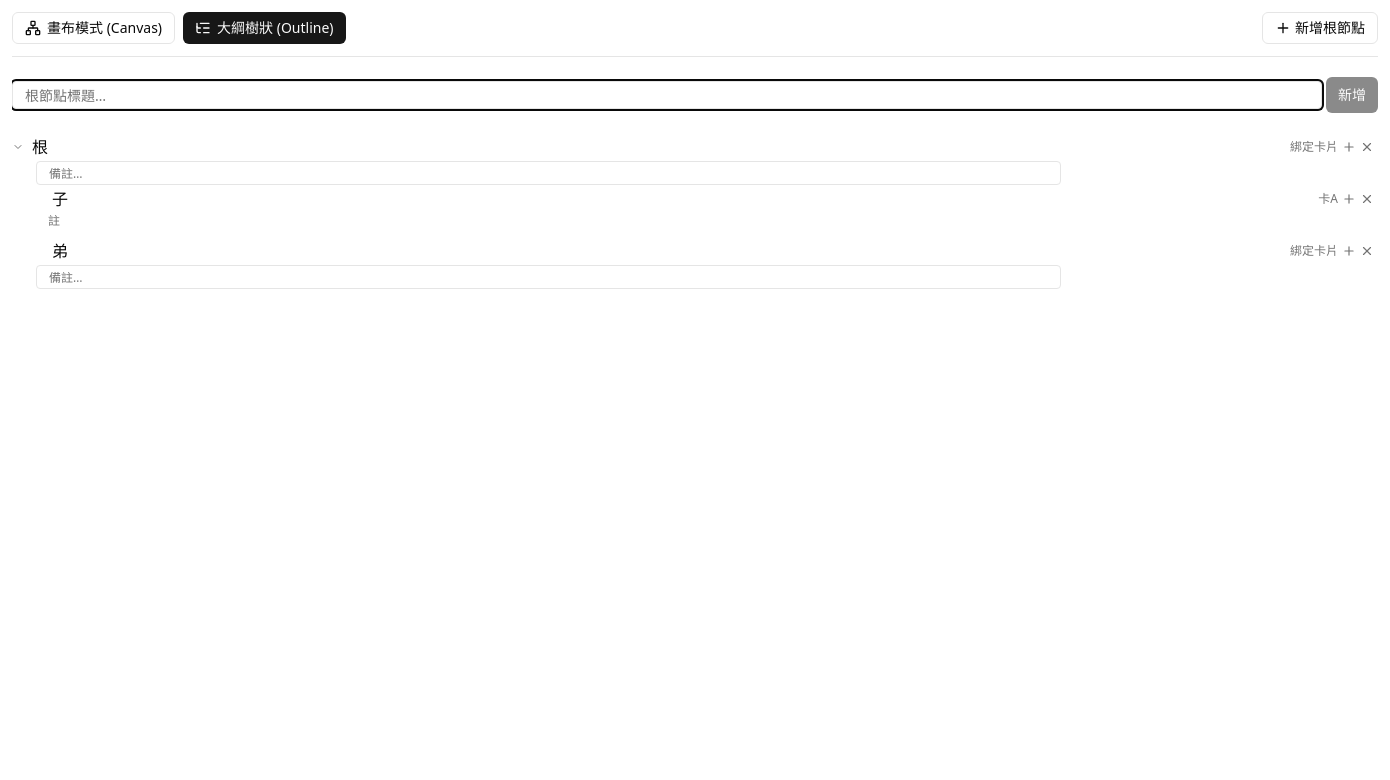
MindMapTab 卡片庫抽屜的截斷提示 › total 大於已載入筆數時，提示同時印出總數與已載入筆數
Click the button "畫布模式 (Canvas)". click: click(94, 28)
box: top-left (12, 12), bottom-right (175, 44)
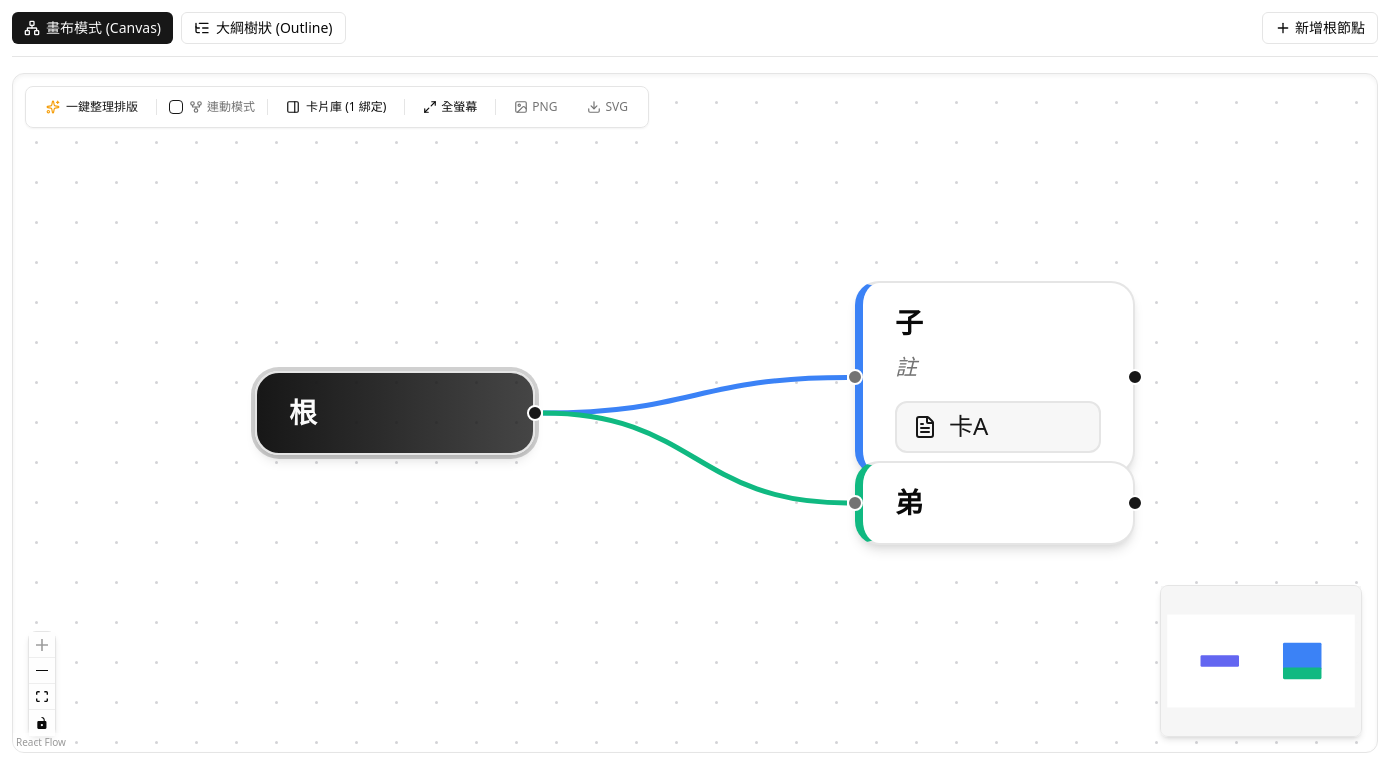
Click the button "卡片庫 (1 綁定)". click: click(336, 107)
box: top-left (274, 93), bottom-right (398, 121)
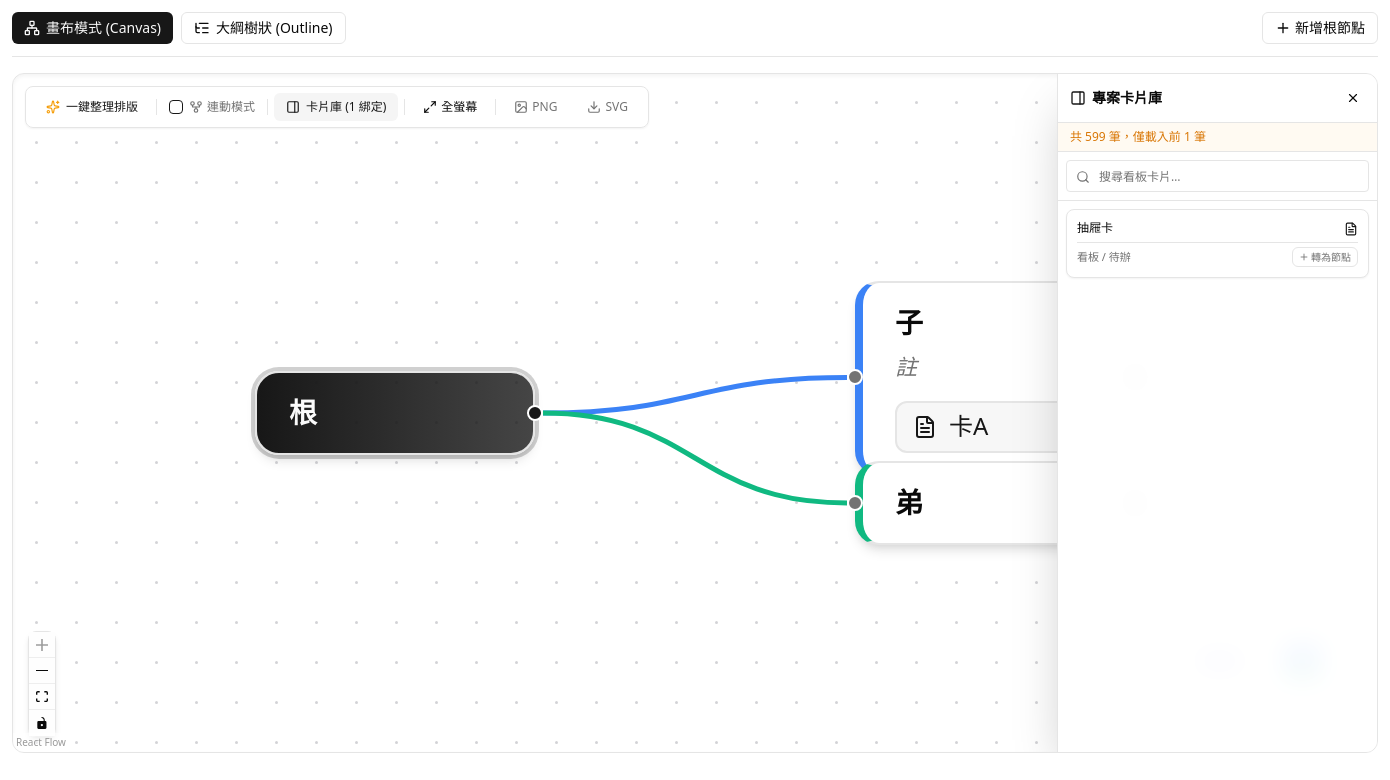
Now the field with placeholder "搜尋看板卡片…" is shown, box top-left (1066, 160), bottom-right (1369, 192)
Now the text "共 599 筆，僅載入前 1 筆" is shown, box top-left (1058, 123), bottom-right (1377, 152)
